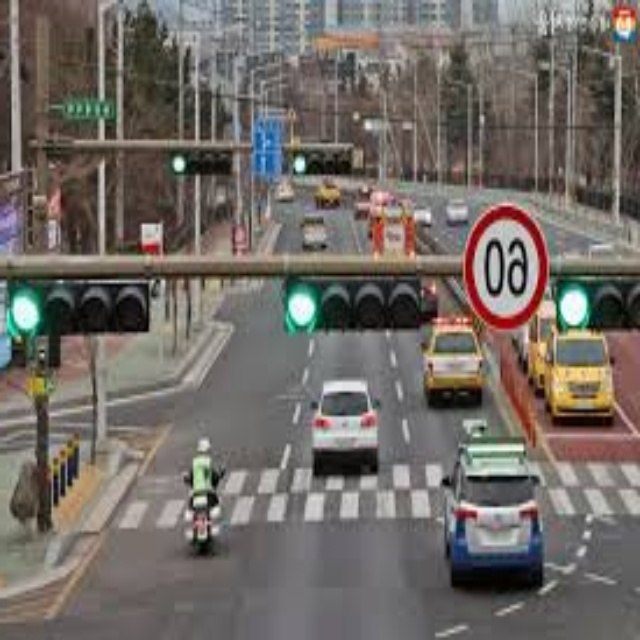green_light: (6, 283, 46, 340), (287, 288, 319, 330), (558, 285, 588, 326), (173, 153, 188, 172), (294, 154, 307, 172)
